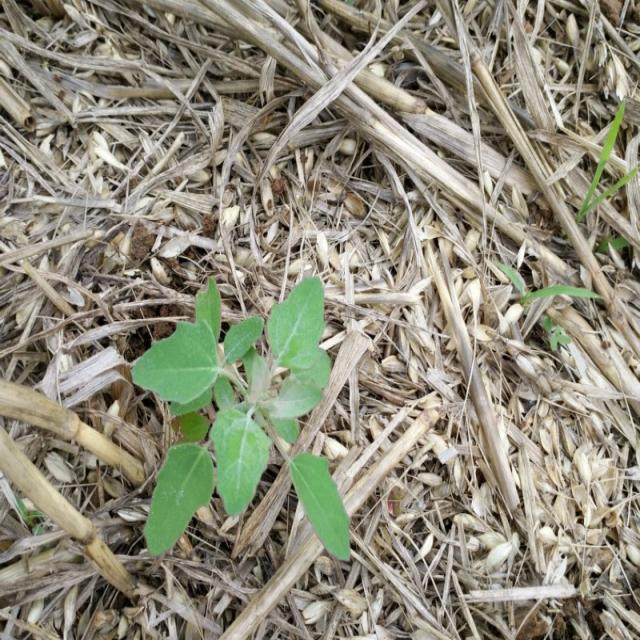ca: (128, 271, 350, 560)
